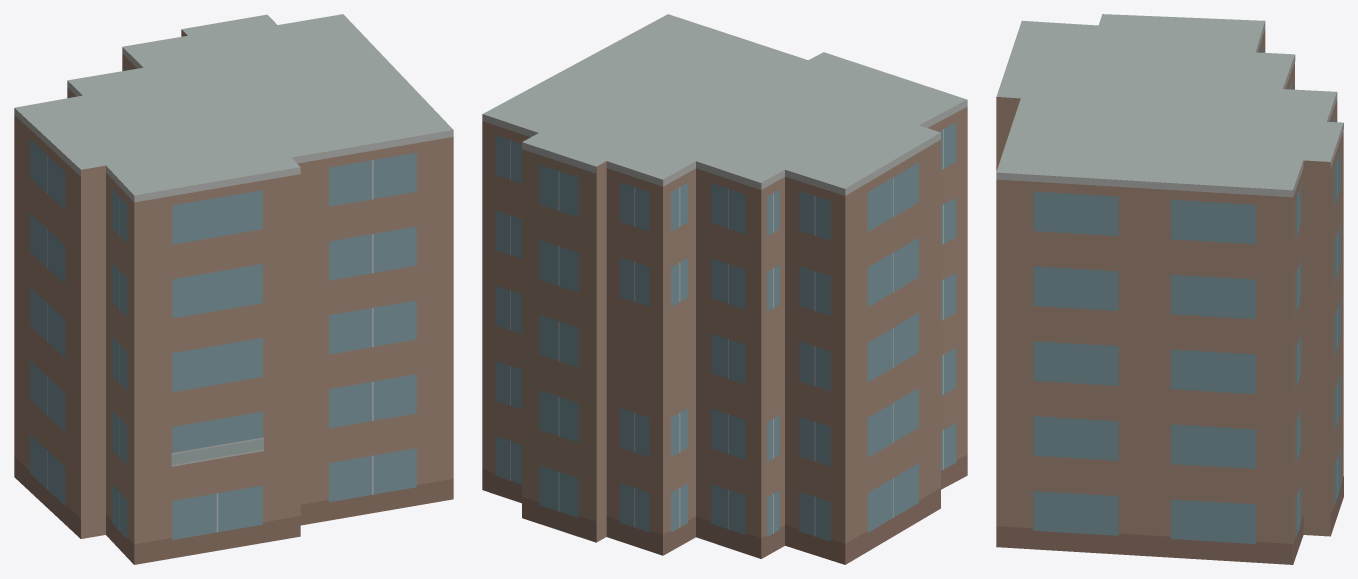
The model's file is survey-upis-32978991.glb.
3 views of the same model, side by side, from view 1: azimuth 30°, elevation 25°; view 2: azimuth 150°, elevation 25°; view 3: azimuth 270°, elevation 25° (orthographic).
Parts seen in each view (by area): view 1: survey-upis-32978991.tmp; view 2: survey-upis-32978991.tmp; view 3: survey-upis-32978991.tmp.
Boxes of the visible parts, <box> form: survey-upis-32978991.tmp: <box>14,14,453,564</box>; survey-upis-32978991.tmp: <box>482,14,967,564</box>; survey-upis-32978991.tmp: <box>996,14,1343,564</box>.
Size of the model in its own units: 13.29 by 13.15 by 11.07.
